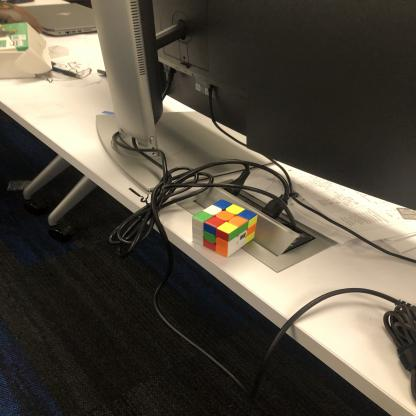UnsolvedCube: (189, 198, 257, 258)
